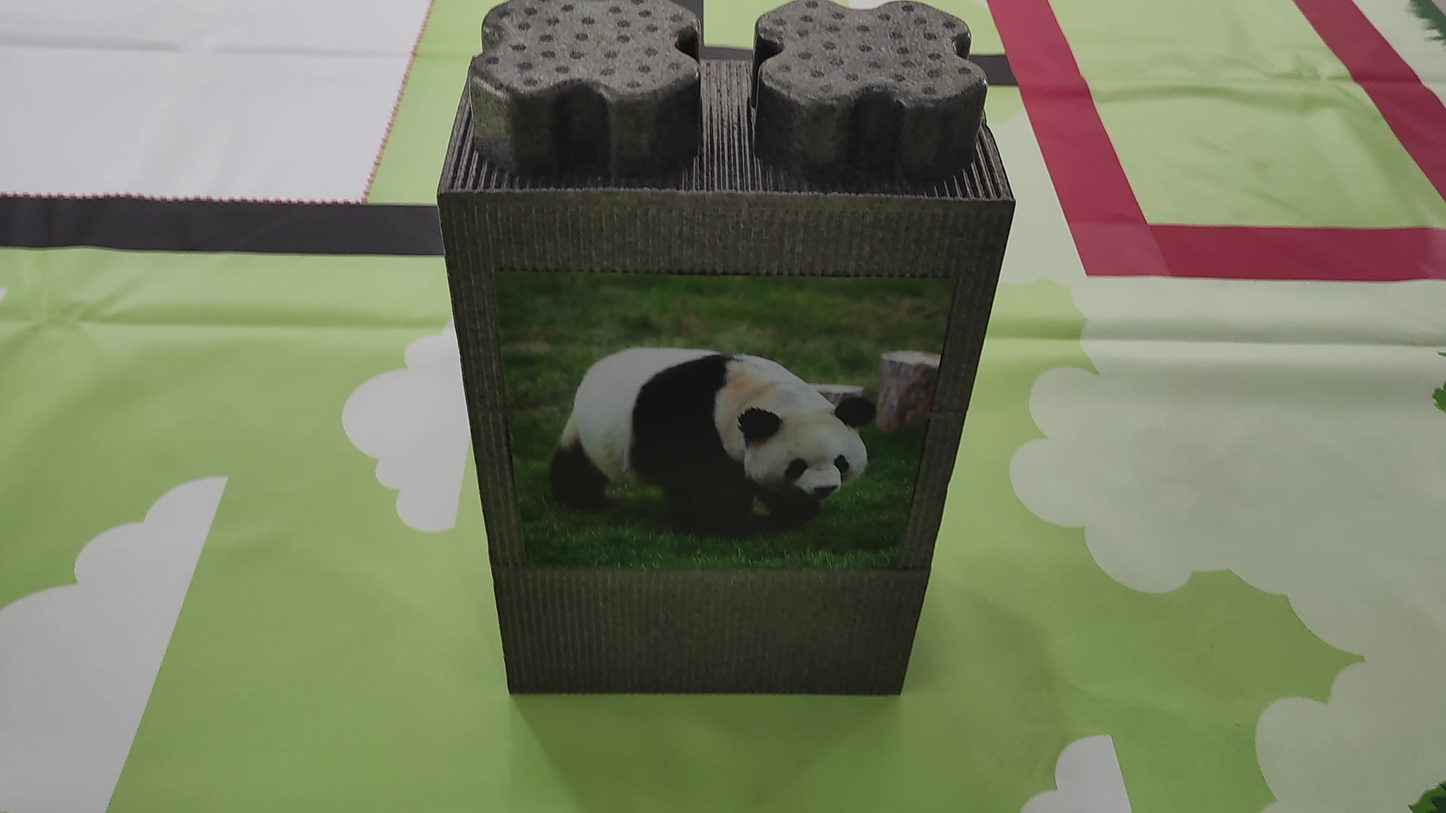panda: (513, 318, 874, 552)
